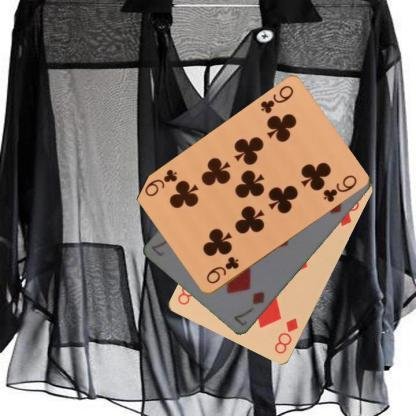7d: (232, 290, 266, 327)
8d: (271, 315, 300, 356)
9c: (257, 82, 295, 115), (204, 254, 240, 286)
